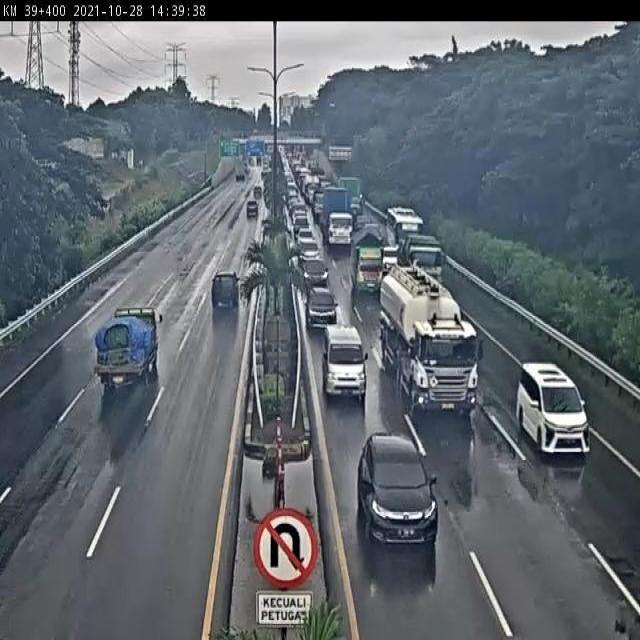ARABA: (361, 414, 436, 538), (507, 341, 581, 436), (204, 275, 251, 333), (318, 297, 352, 353), (304, 274, 330, 310), (301, 247, 325, 270), (240, 203, 259, 232), (245, 183, 265, 209), (299, 217, 315, 244)
KAMYONET: (76, 280, 163, 408), (343, 223, 371, 272)
TIR: (377, 260, 460, 375)
